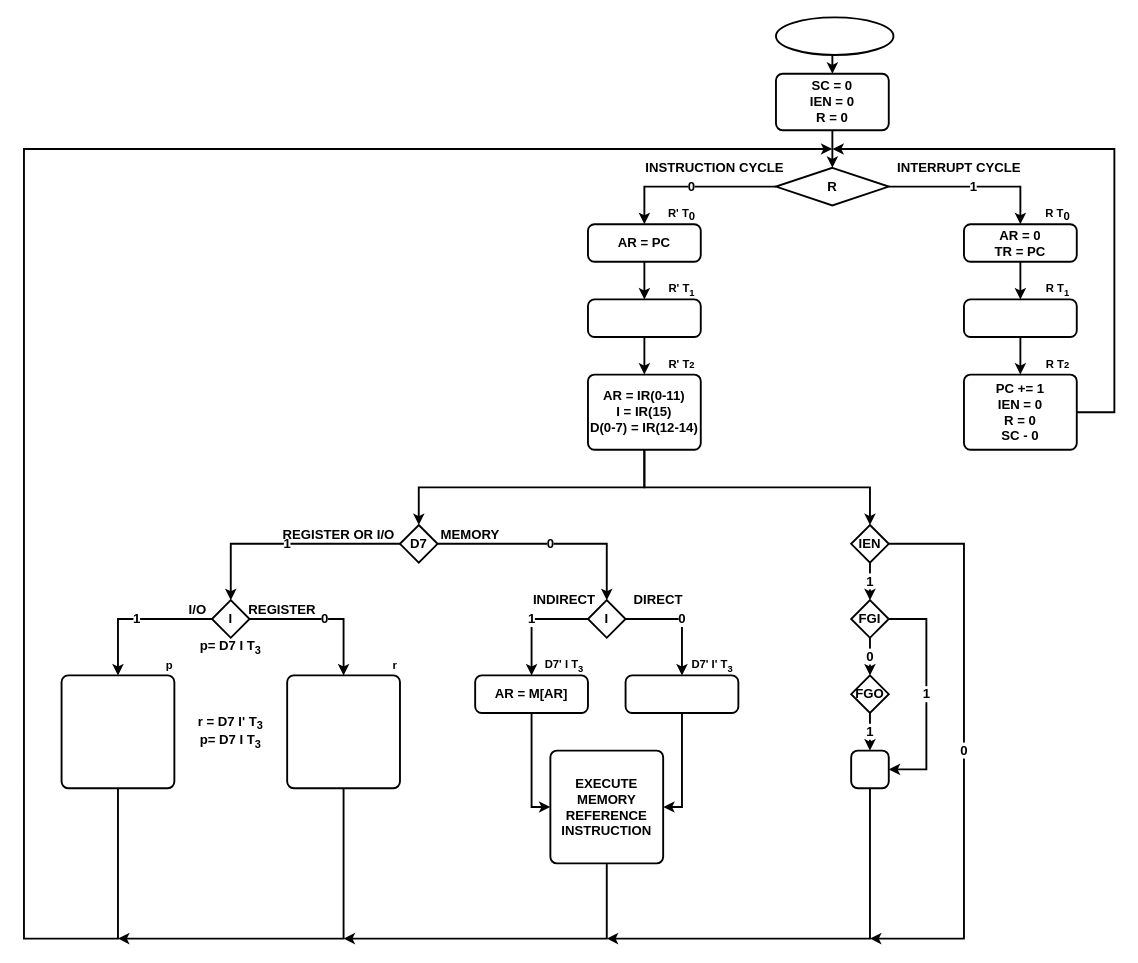
This 1138x963 diagram has some shape labels left out. Here are the shapes that lost their labels. From the top down, the centre of each, then its label:
(834,35): START
(644,317): IR = M[AR] PC += 1
(1020,317): M[AR] = TR PC = 0
(681,693): NOTHING
(117,731): EXECUTE I/O REFERENCE INSTRUCTION
(343,731): EXECUTE REGISTER REFERENCE INSTRUCTION
(869,769): R = 1
